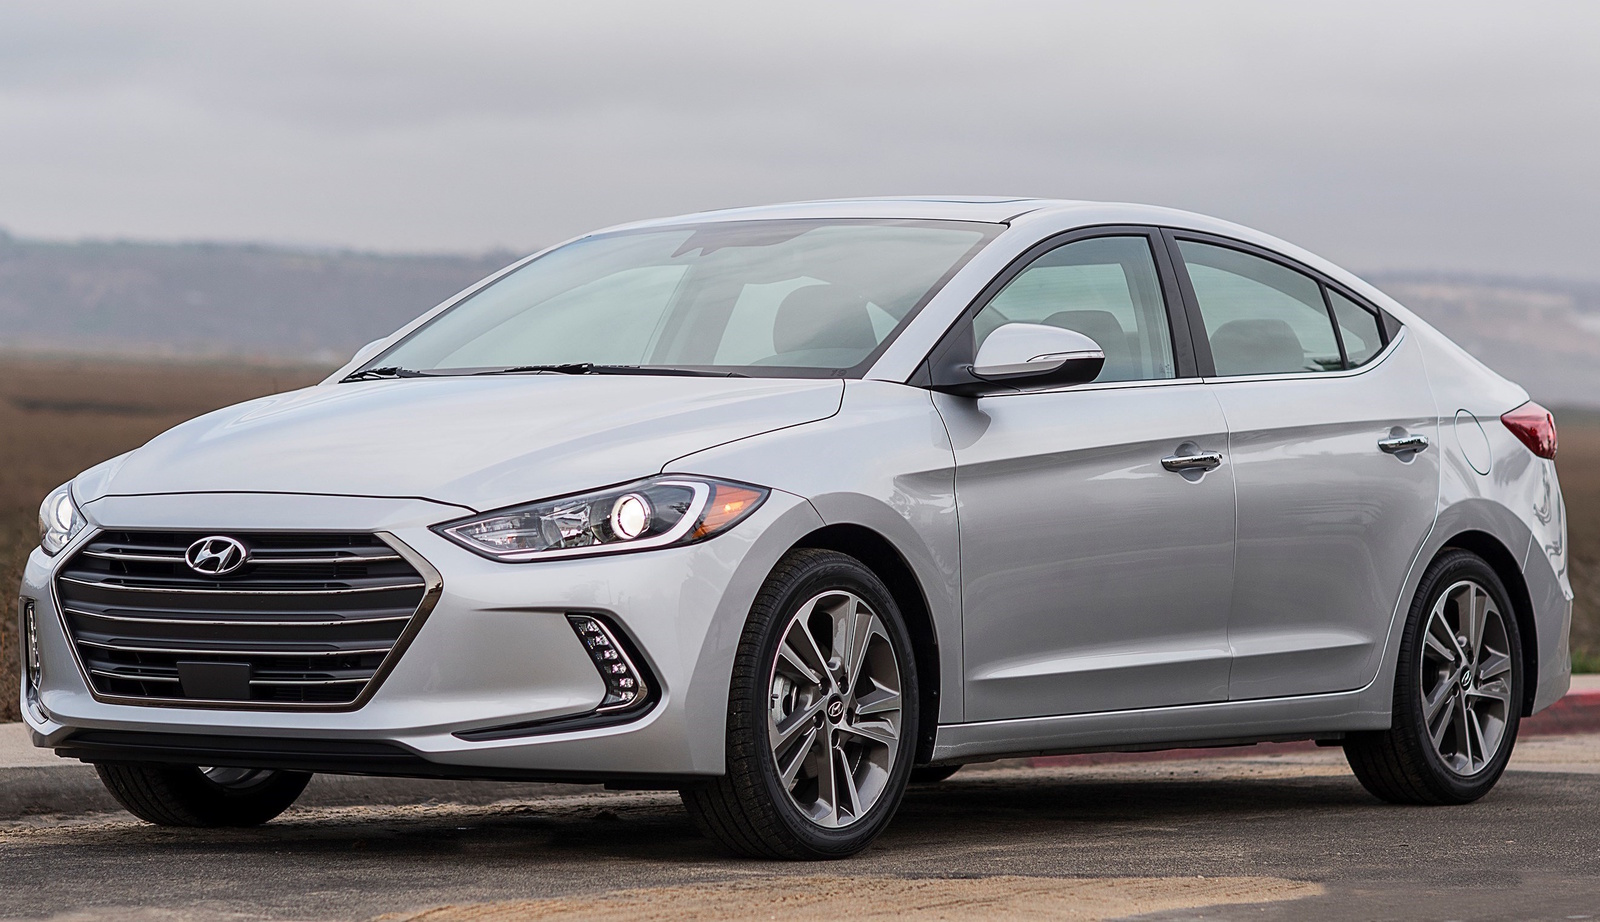elantra: (5, 184, 1600, 866)
